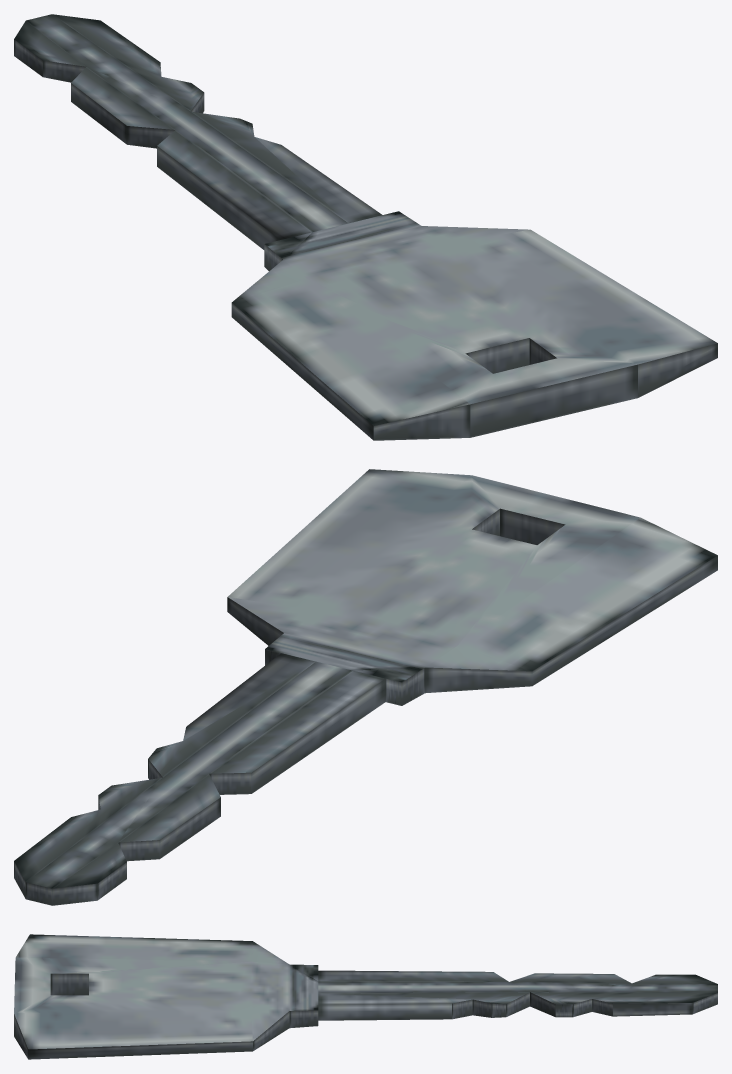
File: Silent Hill 1 Meshes - House Key.fbx
3 views of the same model, one above another, from view 1: azimuth 30°, elevation 25°; view 2: azimuth 150°, elevation 25°; view 3: azimuth 270°, elevation 25° (orthographic). The views are drawn at different scales.
Visible parts, largest first — view 1: key11; view 2: key11; view 3: key11.
Boxes of the visible parts, bbox=[...] form: key11: bbox=[14, 14, 717, 440]; key11: bbox=[14, 469, 717, 905]; key11: bbox=[14, 934, 717, 1059].
Bounding box in the file's own units: 34.2 × 3.2 × 88.4.
1 material, 1 textured.
